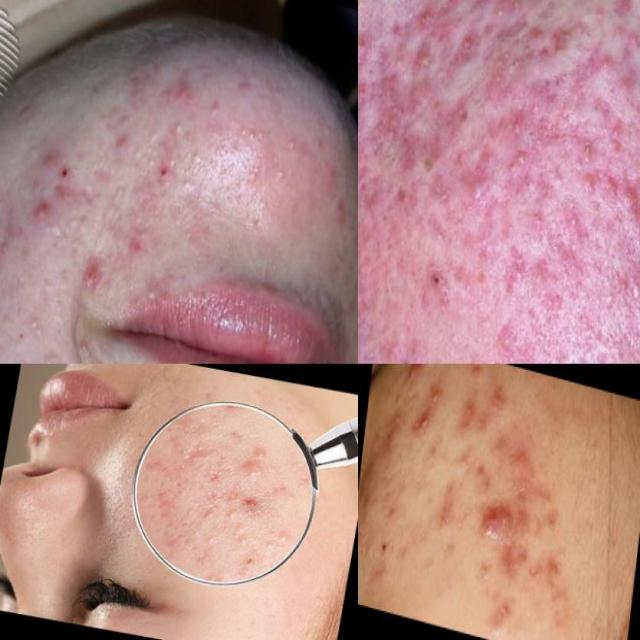8: (383, 50, 524, 206), (65, 240, 117, 300), (163, 52, 206, 120), (16, 186, 58, 248), (45, 174, 90, 216), (36, 144, 67, 182), (456, 392, 481, 430), (484, 382, 510, 418), (318, 158, 342, 194), (248, 439, 275, 464), (110, 132, 133, 161), (512, 446, 532, 474)
9: (417, 38, 436, 75), (403, 364, 428, 388), (617, 185, 638, 212), (580, 135, 600, 161)
blackheads: (612, 174, 640, 252), (500, 138, 539, 188), (410, 398, 435, 451), (187, 430, 219, 462), (200, 491, 222, 522), (243, 493, 268, 513)
pustules: (375, 84, 410, 156), (477, 493, 512, 552), (464, 162, 495, 216), (491, 0, 526, 23)
